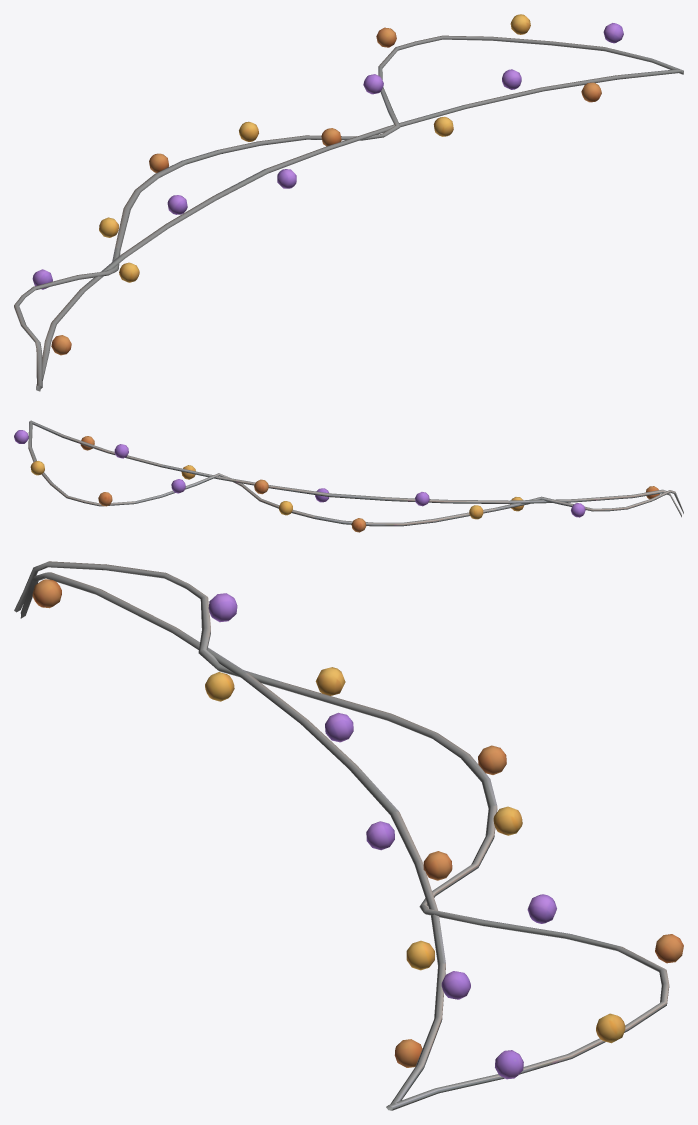
The model's file is pref_sm_beach_WSJ_deng03_g_lv3.fbx.
The picture shows the model from 3 angles, top to bottom: view 1: azimuth 30°, elevation 25°; view 2: azimuth 150°, elevation 25°; view 3: azimuth 270°, elevation 25°; orthographic projection. The views are drawn at different scales.
Parts seen in each view (by area): view 1: pref_sm_beach_WSJ_deng03_g_lv3; view 2: pref_sm_beach_WSJ_deng03_g_lv3; view 3: pref_sm_beach_WSJ_deng03_g_lv3.
Part boxes in pixels (<box>): pref_sm_beach_WSJ_deng03_g_lv3: <box>14,14,683,391</box>; pref_sm_beach_WSJ_deng03_g_lv3: <box>14,420,683,532</box>; pref_sm_beach_WSJ_deng03_g_lv3: <box>14,561,683,1110</box>.
Size of the model in its own units: 7.26 by 0.5584 by 3.77.
